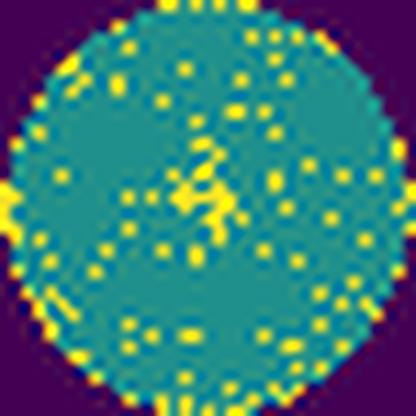Center: (168, 132, 239, 248)
